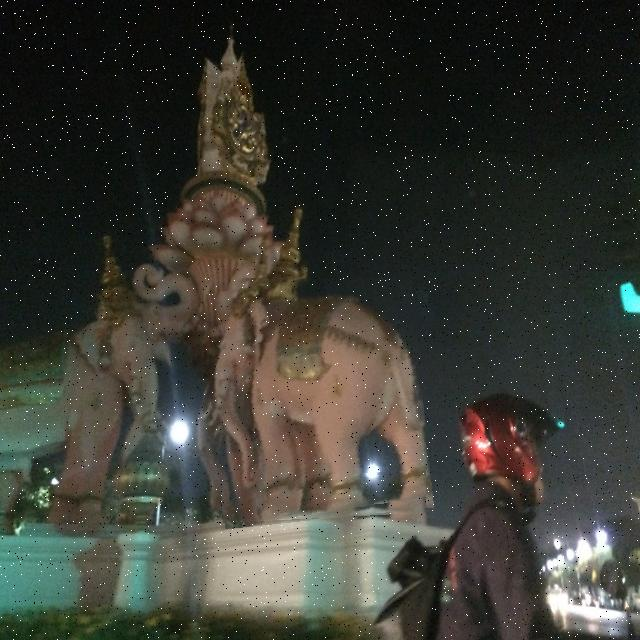elephant: (207, 278, 428, 524)
